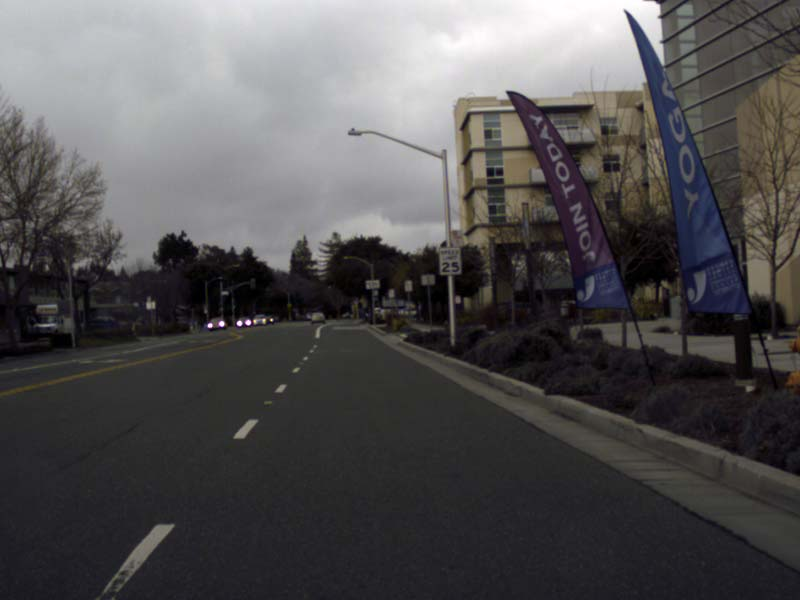Green: (231, 299, 235, 310), (327, 282, 330, 290)
